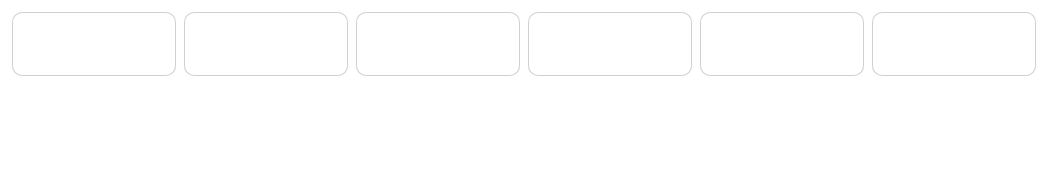
Scenario: OtpInput › aceita colar o código inteiro
Click the field named "Dígito 1 de 6": (94, 44) x1=12 y1=12 x2=176 y2=76
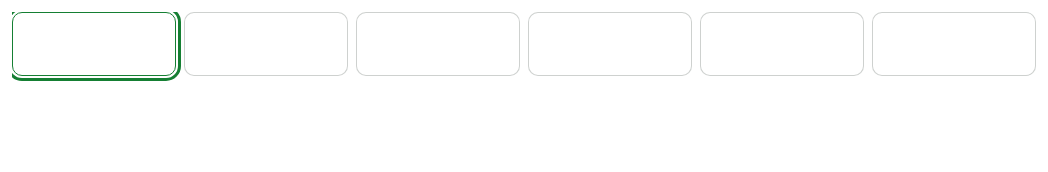
Type keys "123456"
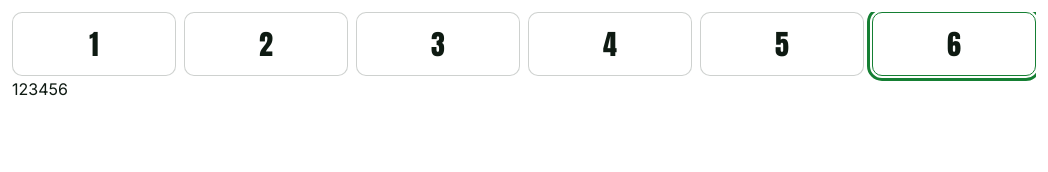
Expected: the text with test id "valor" reads "123456", x1=12 y1=79 x2=68 y2=99
